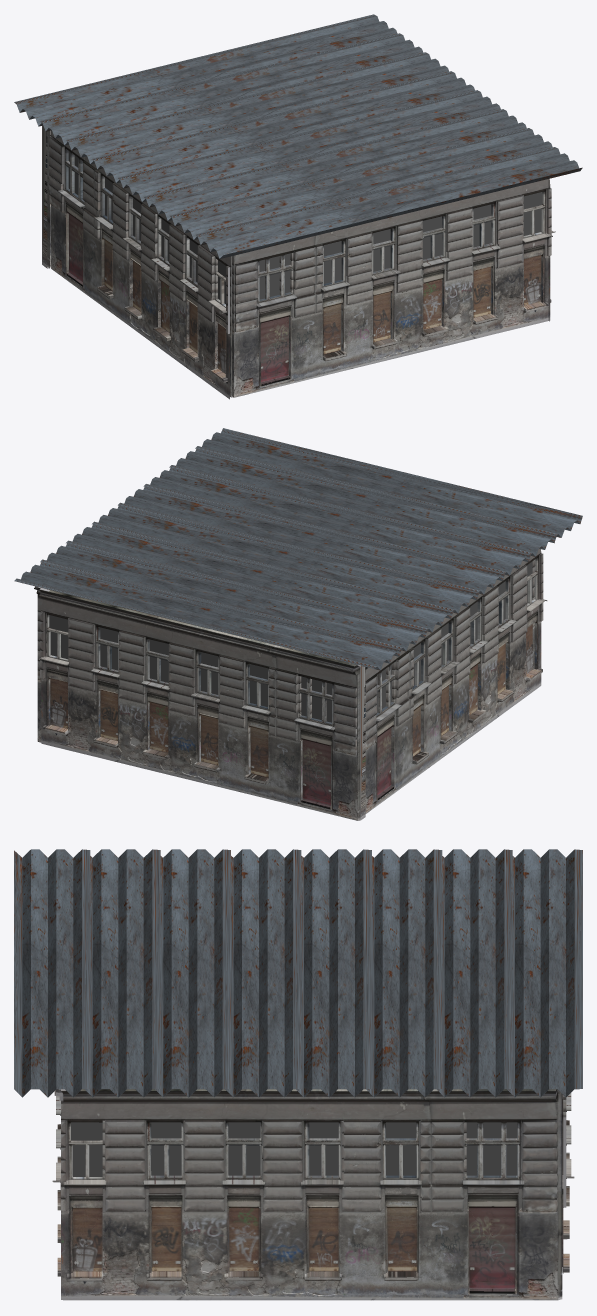
File: EDI003.fbx
3 renders of one model, top to bottom at view 1: azimuth 30°, elevation 25°; view 2: azimuth 150°, elevation 25°; view 3: azimuth 270°, elevation 25°, orthographic. The views are drawn at different scales.
Parts seen in each view (by area): view 1: TECHO002, TexturesCom_BuildingsHouseOld0216_S.002, TexturesCom_BuildingsHouseOld0216_S.003, TexturesCom_BuildingsHouseOld0216_S.001; view 2: TECHO002, TexturesCom_BuildingsHouseOld0216_S.001, TexturesCom_BuildingsHouseOld0216_S.003, TexturesCom_BuildingsHouseOld0216_S; view 3: TECHO002, TexturesCom_BuildingsHouseOld0216_S, TexturesCom_BuildingsHouseOld0216_S.001, TexturesCom_BuildingsHouseOld0216_S.002.
Part boxes in pixels (x1,y1,x2,y2): TECHO002: (14,14,582,258); TexturesCom_BuildingsHouseOld0216_S.002: (229,179,552,397); TexturesCom_BuildingsHouseOld0216_S.003: (49,130,229,399); TexturesCom_BuildingsHouseOld0216_S.001: (42,125,49,268); TECHO002: (14,428,582,670); TexturesCom_BuildingsHouseOld0216_S.001: (39,588,365,820); TexturesCom_BuildingsHouseOld0216_S.003: (356,548,547,813); TexturesCom_BuildingsHouseOld0216_S: (34,586,47,742); TECHO002: (14,849,582,1097); TexturesCom_BuildingsHouseOld0216_S: (61,1089,562,1300); TexturesCom_BuildingsHouseOld0216_S.001: (562,1093,574,1273); TexturesCom_BuildingsHouseOld0216_S.002: (52,1089,63,1276).
Bounding box in the file's own units: 24.24 × 10.49 × 24.33.
3 materials, 2 textured.
